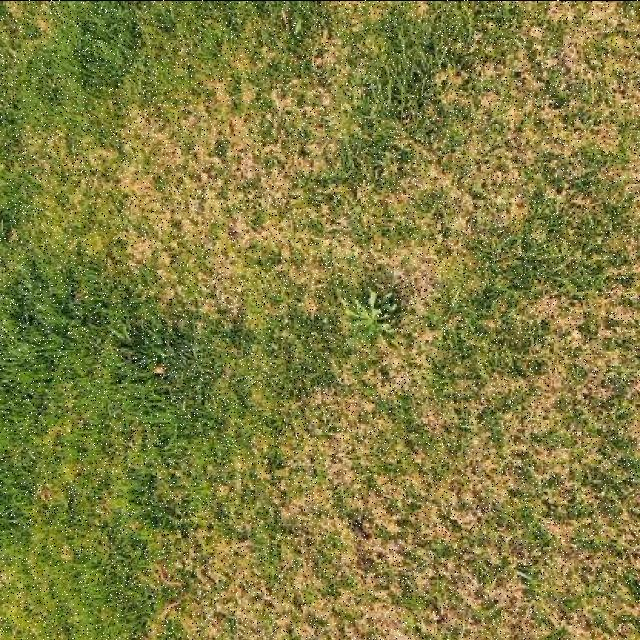weed: (344, 288, 399, 345)
